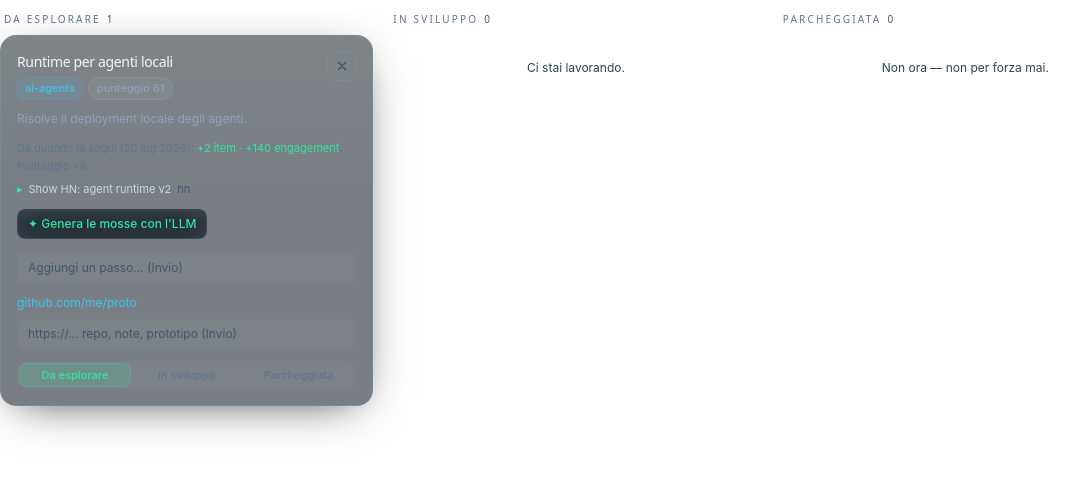
Test case: SviluppoView › mosse generiche (422): non manda a controllare Ollama
Click the button "✦ Genera le mosse con l'LLM" at (112, 224), box [17, 209, 207, 239]
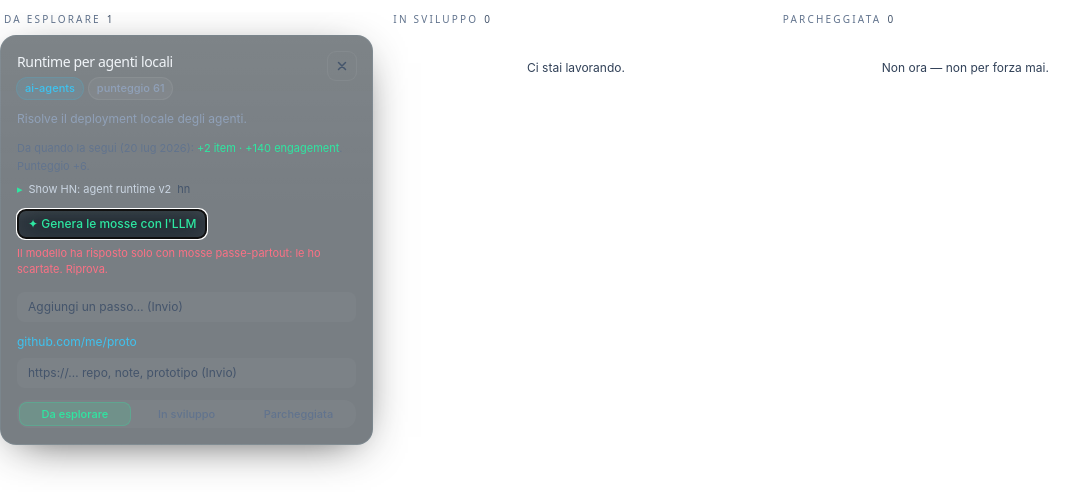
Expected: the text "passe-partout" is shown, [17, 246, 321, 276]
